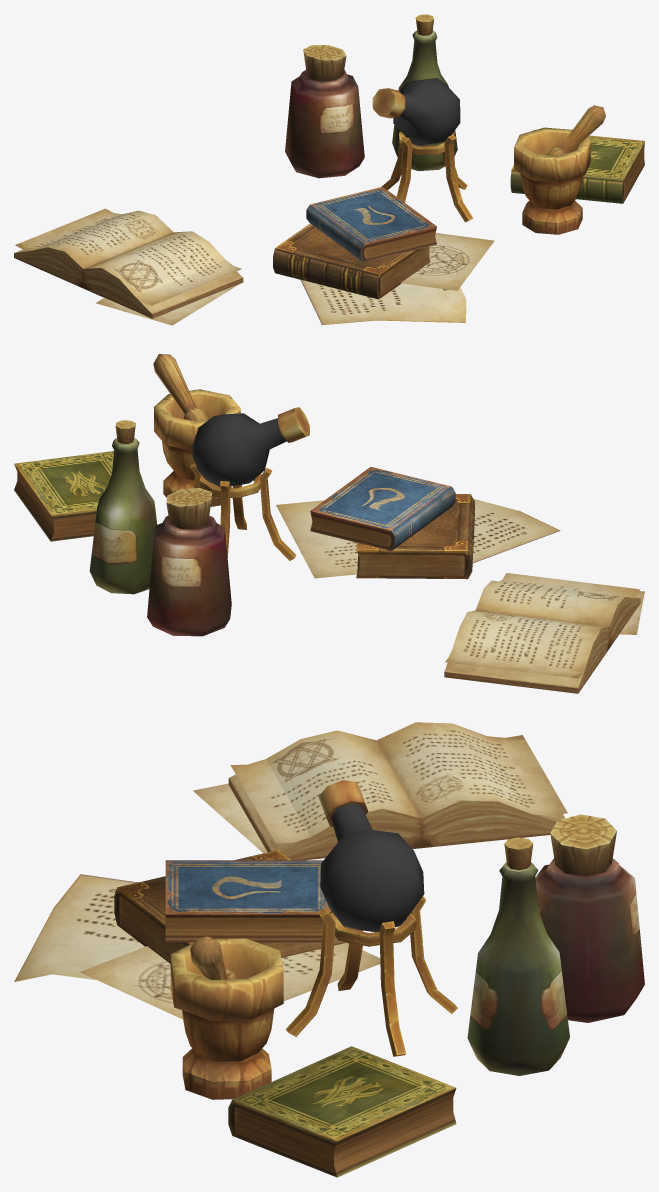
Rendered from Table_Preset_06.FBX.
3 renders of one model, top to bottom at view 1: azimuth 30°, elevation 25°; view 2: azimuth 150°, elevation 25°; view 3: azimuth 270°, elevation 25°, orthographic. The views are drawn at different scales.
Visible parts, largest first — view 1: Table_Preset_06; view 2: Table_Preset_06; view 3: Table_Preset_06.
Boxes of the visible parts, x1,y1,x2,y2 form: Table_Preset_06: (14,14,644,325); Table_Preset_06: (14,354,644,693); Table_Preset_06: (14,722,644,1177).
Size of the model in its own units: 178 by 112 by 45.45.
